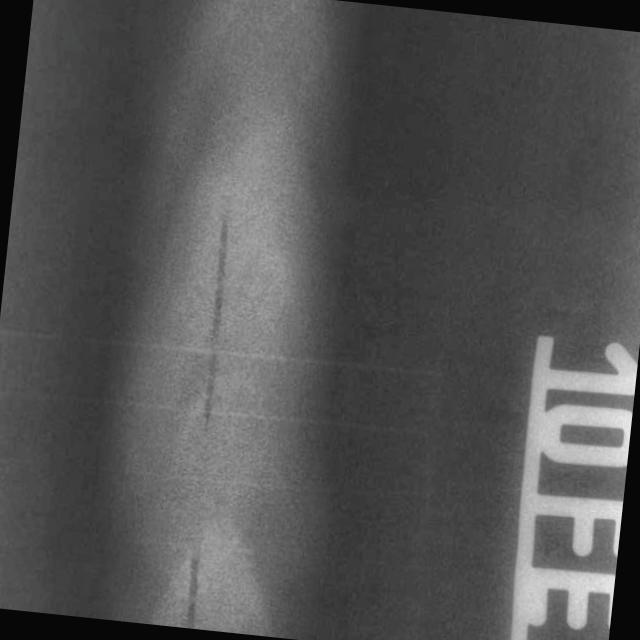LoP-LoF: (154, 182, 266, 631)
